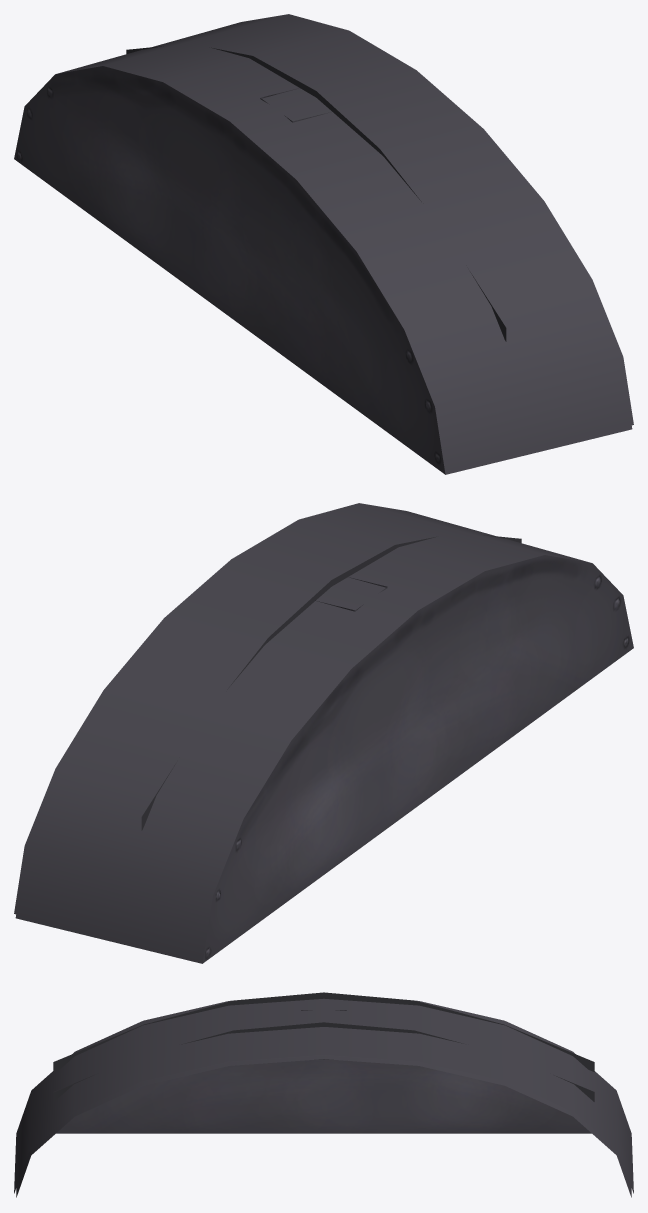
The model's file is ceiling01_cap.fbx.
3 views of the same model, one above another, from view 1: azimuth 30°, elevation 25°; view 2: azimuth 150°, elevation 25°; view 3: azimuth 270°, elevation 25° (orthographic). The views are drawn at different scales.
Parts seen in each view (by area): view 1: Circle; view 2: Circle; view 3: Circle.
Part boxes in pixels (bbox=[...]): Circle: bbox=[14, 14, 633, 474]; Circle: bbox=[14, 503, 633, 963]; Circle: bbox=[14, 992, 633, 1197].
Bounding box in the file's own units: 2 × 2.1 × 8.06.
Materials: 1 (1 with a texture image).
